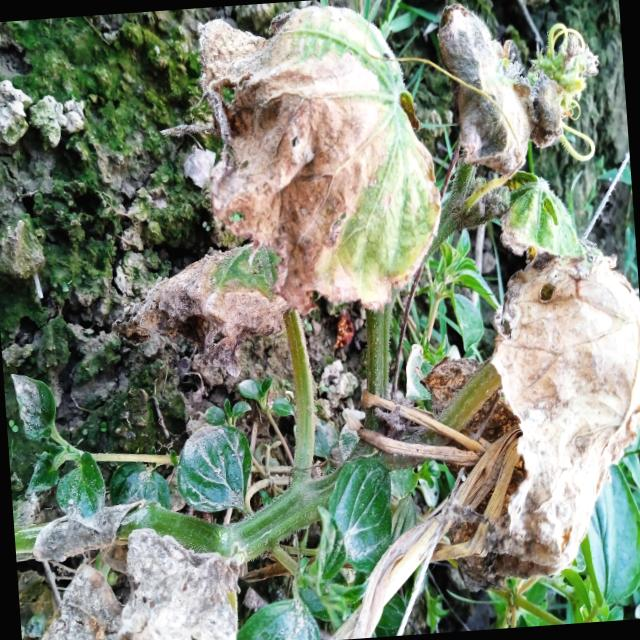Bacterial-Wilt: (195, 0, 442, 318), (451, 232, 640, 594)
